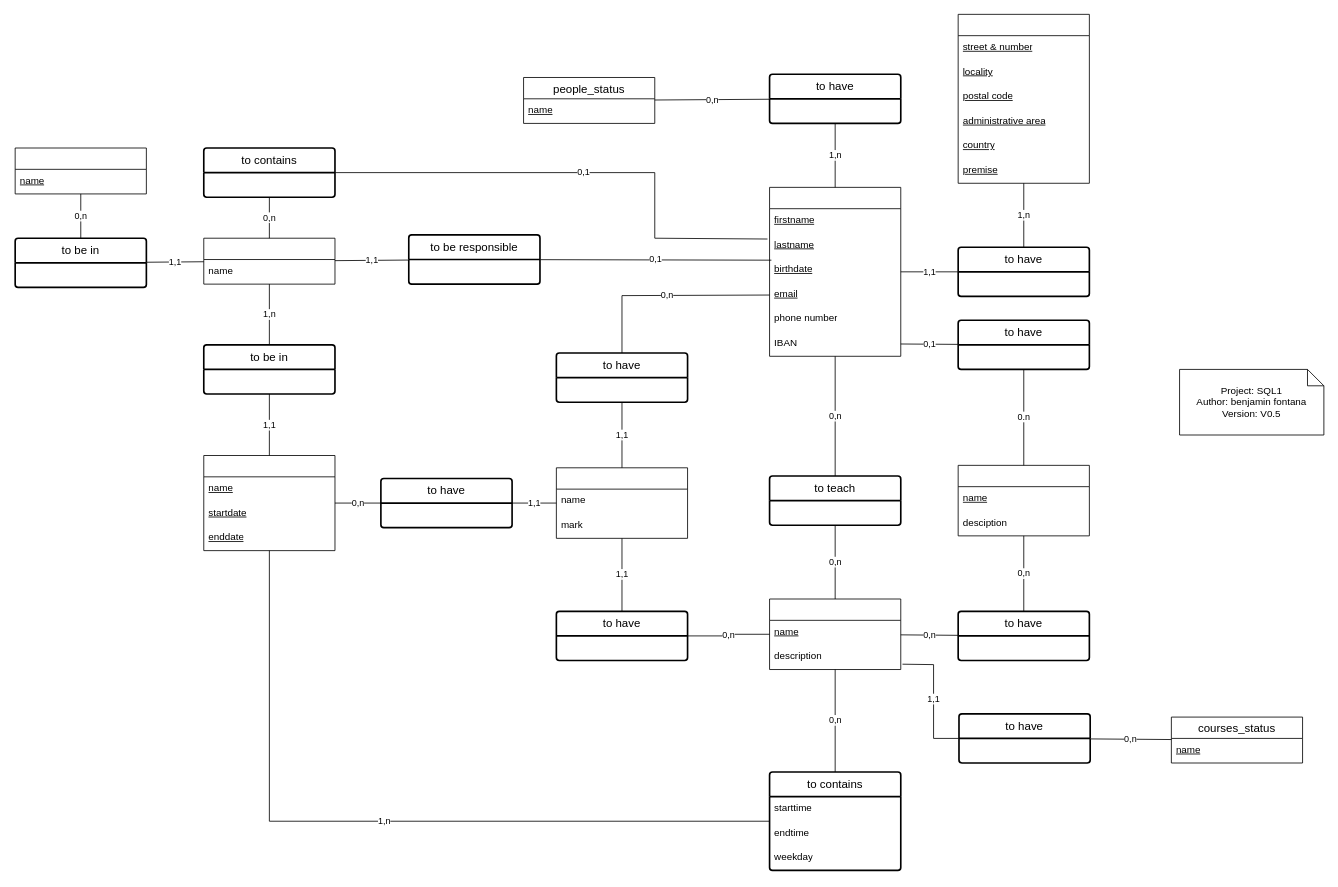
Image size: 1338x887. Some labels were removed from this diagram. The shapes that lost their labels are listed below. From the top down, each one's box as (x1, y1, x2, y2) in pixels, then its label:
(957, 14, 1089, 183): addresses
(14, 147, 146, 194): rooms
(203, 237, 335, 284): classes
(769, 187, 901, 356): people
(203, 455, 335, 551): trimester
(556, 467, 688, 538): marks
(957, 465, 1089, 536): specialization
(769, 598, 901, 670): courses
